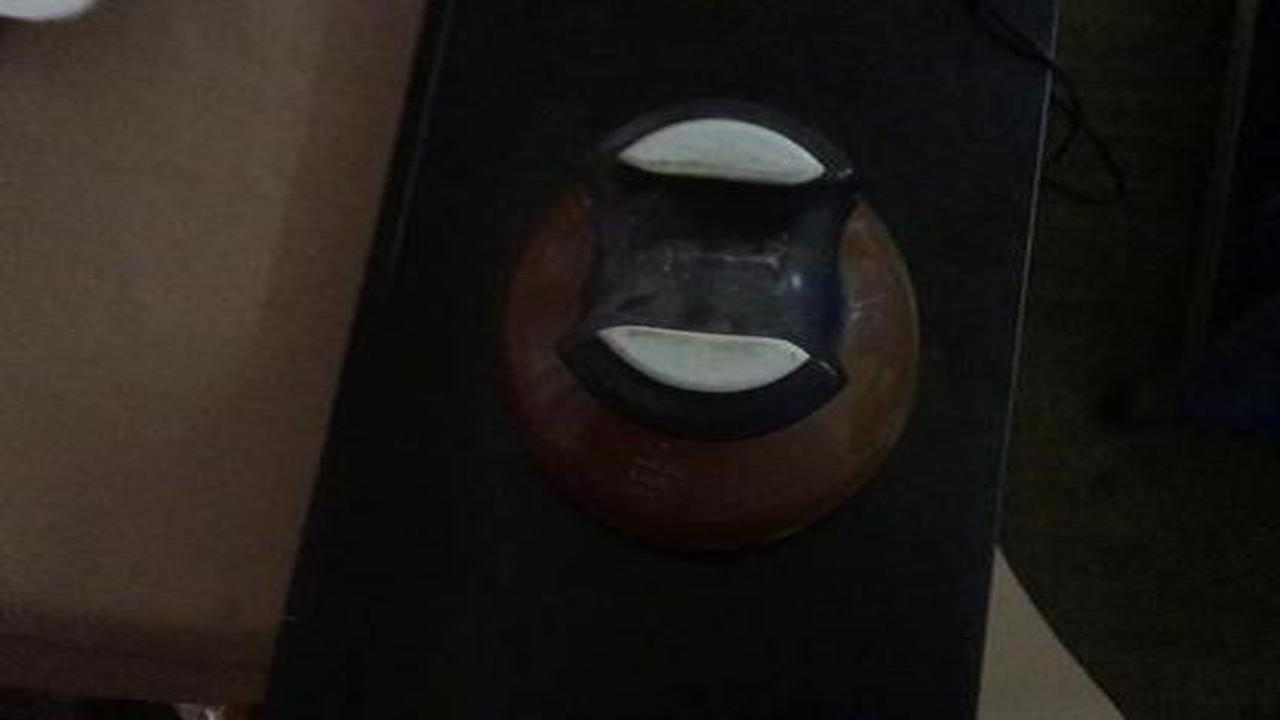insulator_pin: (468, 84, 967, 572)
